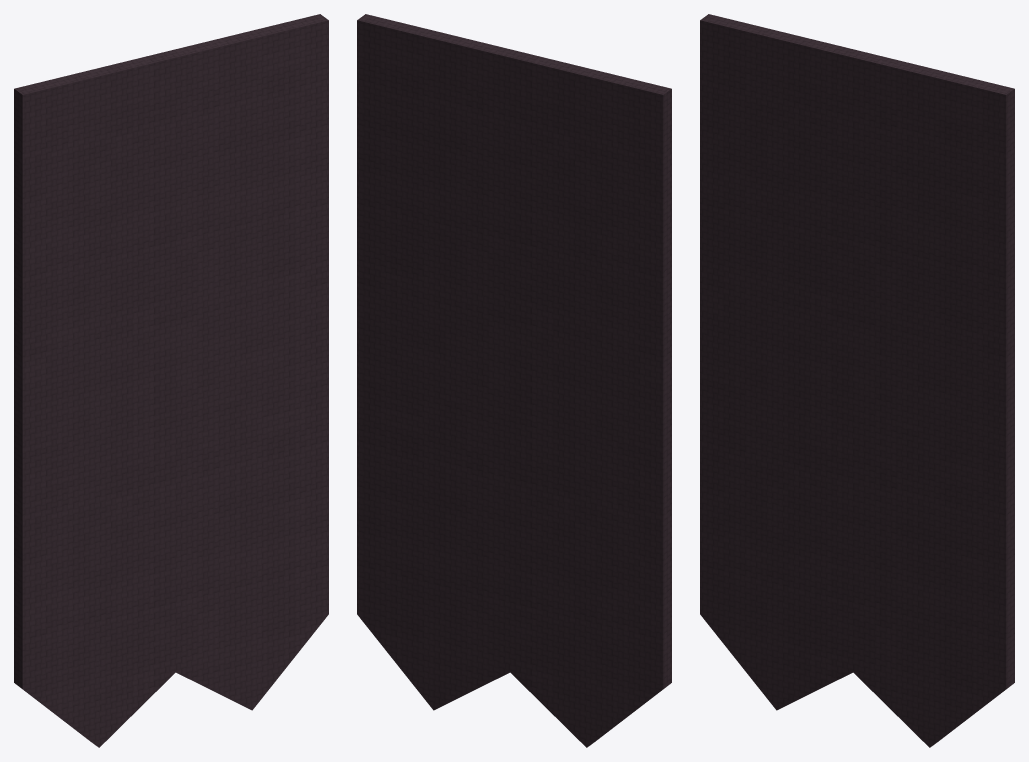
The model's file is kit_banner.glb.
The picture shows the model from 3 angles, left to right: view 1: azimuth 30°, elevation 25°; view 2: azimuth 150°, elevation 25°; view 3: azimuth 330°, elevation 25°; orthographic projection.
Parts seen in each view (by area): view 1: kit_banner; view 2: kit_banner; view 3: kit_banner.
Part boxes in pixels (left/top/right/bottom): kit_banner: left=14, top=14, right=328, bottom=747; kit_banner: left=357, top=14, right=671, bottom=747; kit_banner: left=700, top=14, right=1014, bottom=747.
Size of the model in its own units: 1.24 by 2.6 by 0.06.
1 material, 1 textured.
